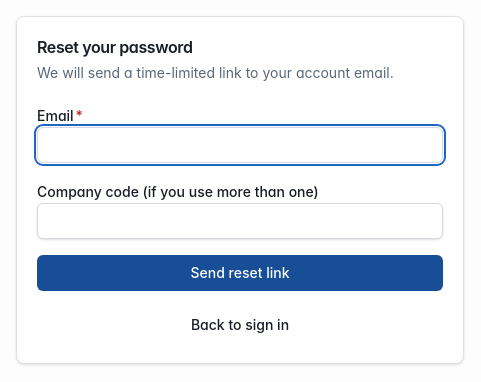
Test: password recovery › requests a reset without exposing whether the account exists
This screenshot has width=481, height=382.
Type "person@example.com" into the field labelled "Email*" at (240, 145), box [37,127,443,163]
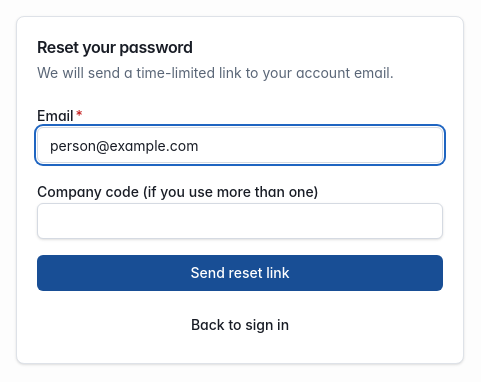
Type "ACME" into the field labelled "Company code (if you use more than one)" at (240, 221), box [37,203,443,239]
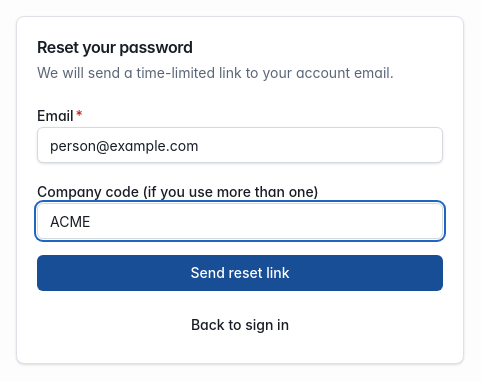
Click the button "Send reset link" at (240, 273), box [37,255,443,291]
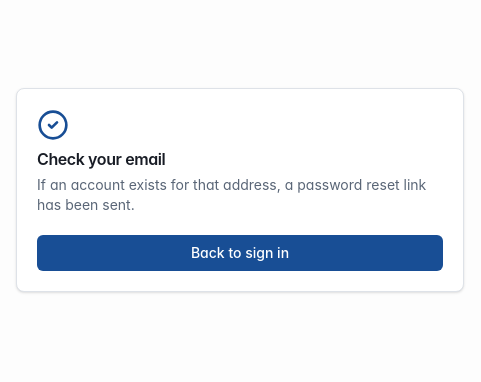
Now the heading "Check your email" is shown, box [37,149,165,169]
